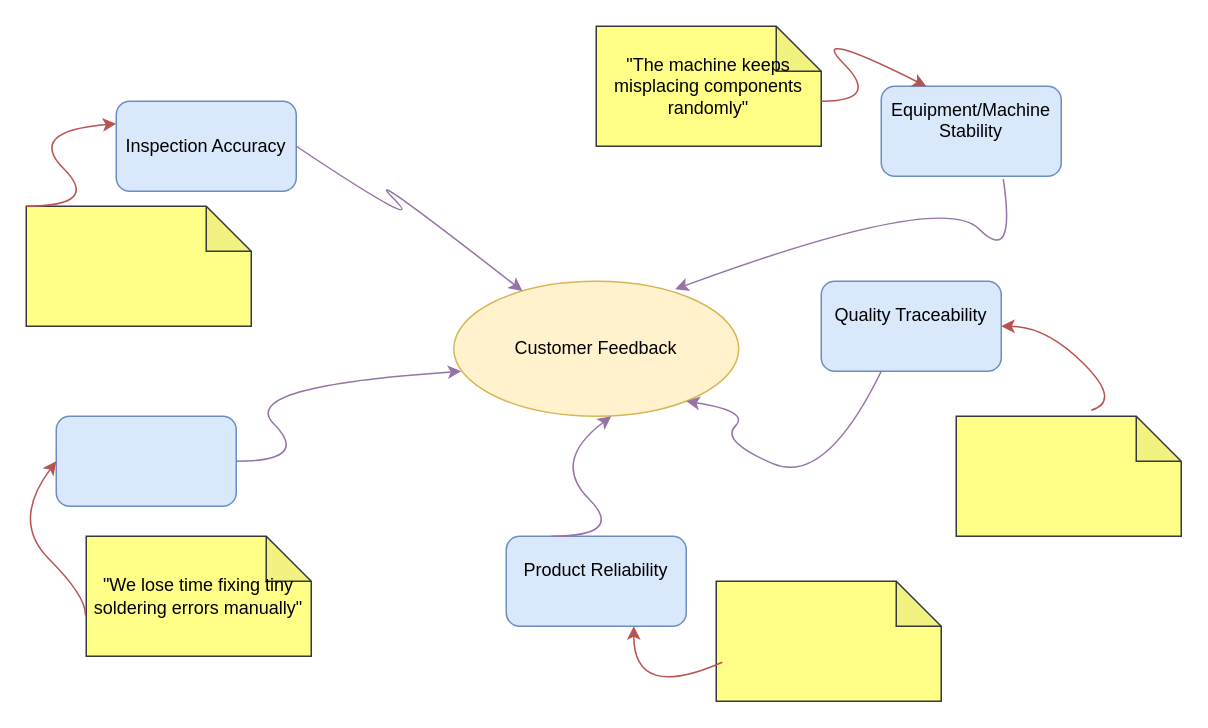
Image size: 1208x728. Some labels were removed from this diagram. Here are the shapes that lost their labels. From the top down, the box of each, then its label:
(25, 205, 251, 326): "Too many boards failing SPI even though they look fine"
(55, 415, 236, 506): Rework & Yield Efficiency
(955, 415, 1181, 536): "We can't trace the root cause for recent reworks"
(715, 580, 941, 701): "We received 2 out of 10 boards not working"
